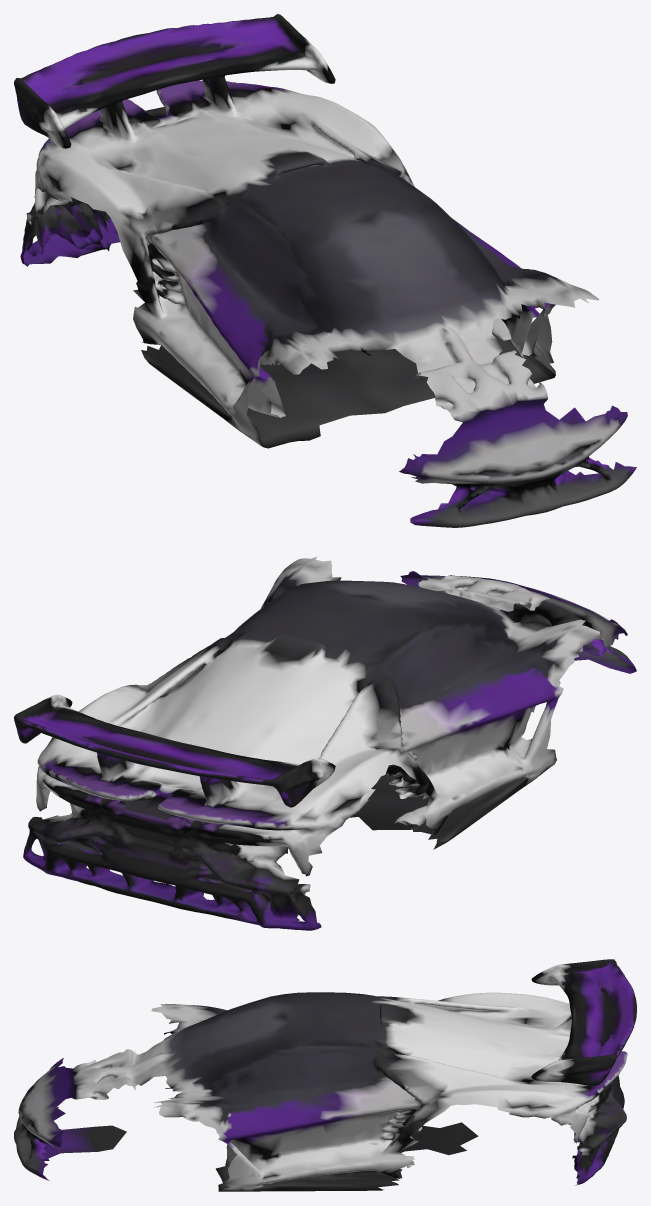
File: super.glb
3 views of the same model, one above another, from view 1: azimuth 30°, elevation 25°; view 2: azimuth 150°, elevation 25°; view 3: azimuth 270°, elevation 25° (orthographic). The views are drawn at different scales.
Visible parts, largest first — view 1: geometry_0; view 2: geometry_0; view 3: geometry_0.
Boxes of the visible parts, left/top/right/bottom form: geometry_0: left=14, top=14, right=636, bottom=527; geometry_0: left=14, top=556, right=636, bottom=930; geometry_0: left=14, top=959, right=636, bottom=1191.
Size of the model in its own units: 1.97 by 1.09 by 4.6.
